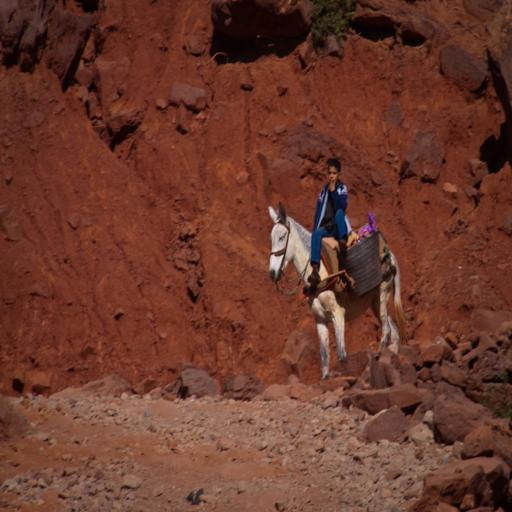horse: (266, 199, 409, 380)
